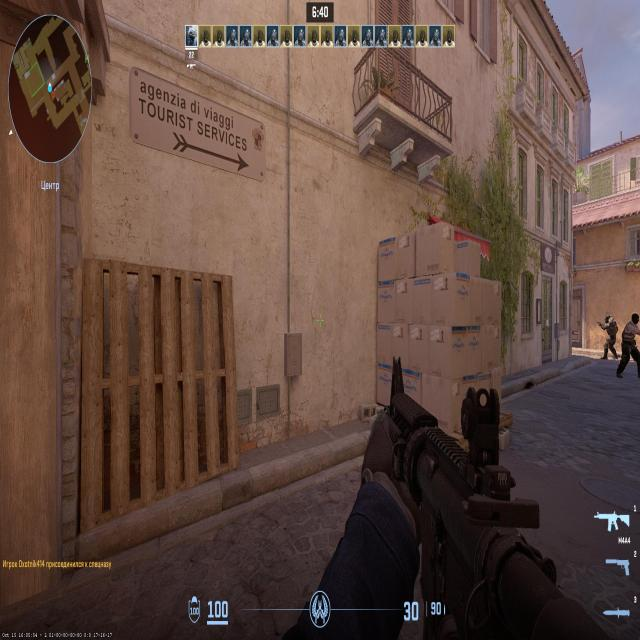CT: (605, 314, 613, 351)
CT_heat: (607, 314, 611, 324)
T: (628, 315, 635, 366)
T_heat: (632, 318, 637, 330)
